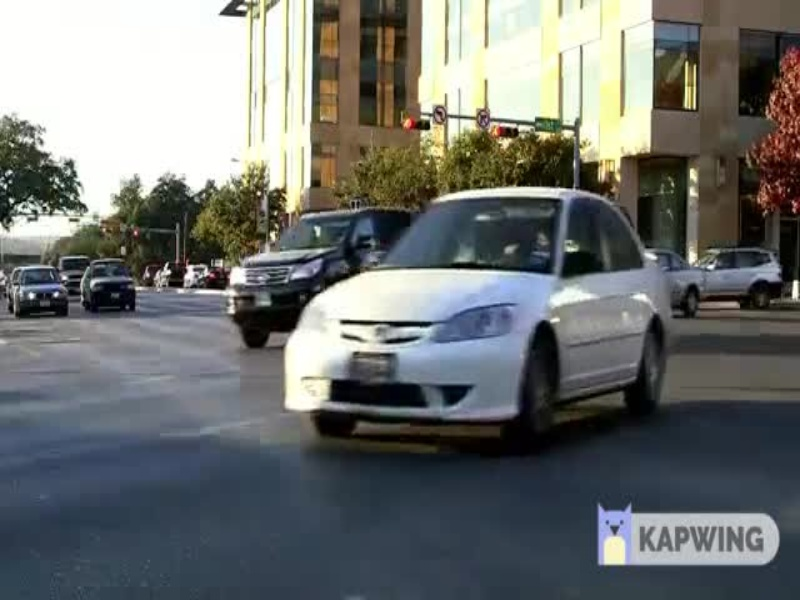car: (284, 184, 673, 457), (1, 265, 72, 336)
truck: (79, 259, 141, 319)
